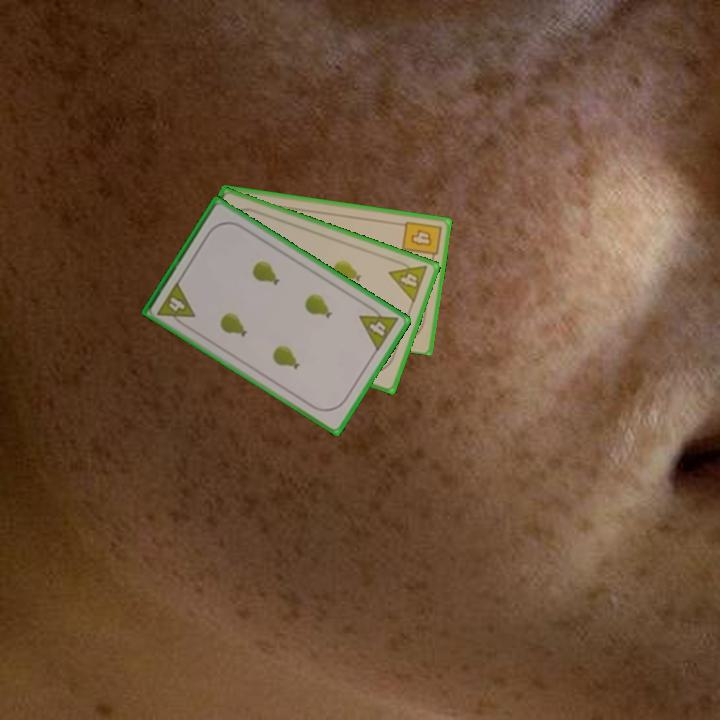4b: (398, 217, 444, 264)
4p: (356, 300, 402, 354), (385, 255, 431, 306), (154, 278, 198, 330)
